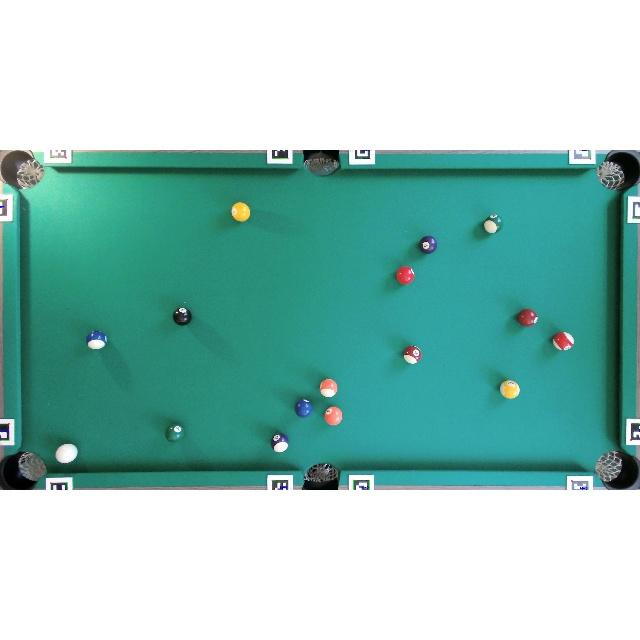cue ball: (55, 444, 78, 464)
other: (230, 201, 250, 222), (86, 331, 108, 350), (552, 332, 574, 351), (500, 380, 520, 399), (324, 406, 343, 426), (518, 308, 538, 327), (403, 345, 422, 364), (271, 433, 289, 453), (166, 424, 184, 444), (484, 214, 502, 234), (295, 398, 313, 417), (319, 379, 338, 397), (396, 266, 415, 284), (173, 307, 191, 325), (419, 236, 437, 254)
